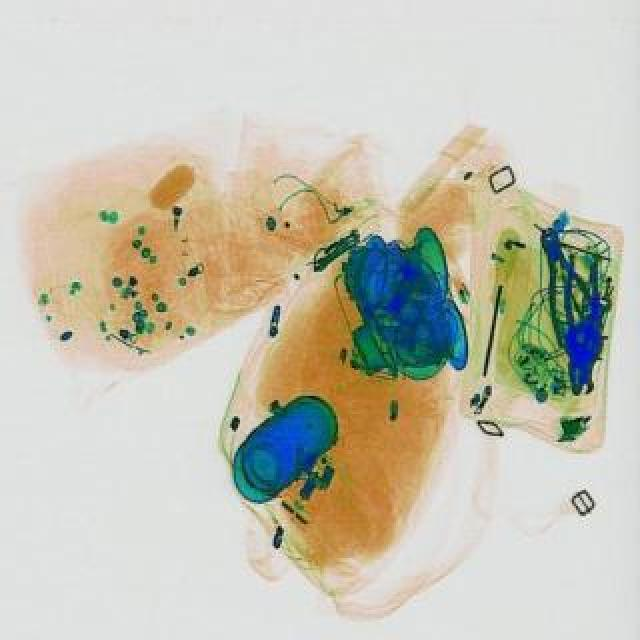scissors: (574, 328, 608, 392)
wrench: (524, 222, 610, 348), (558, 254, 606, 392)
